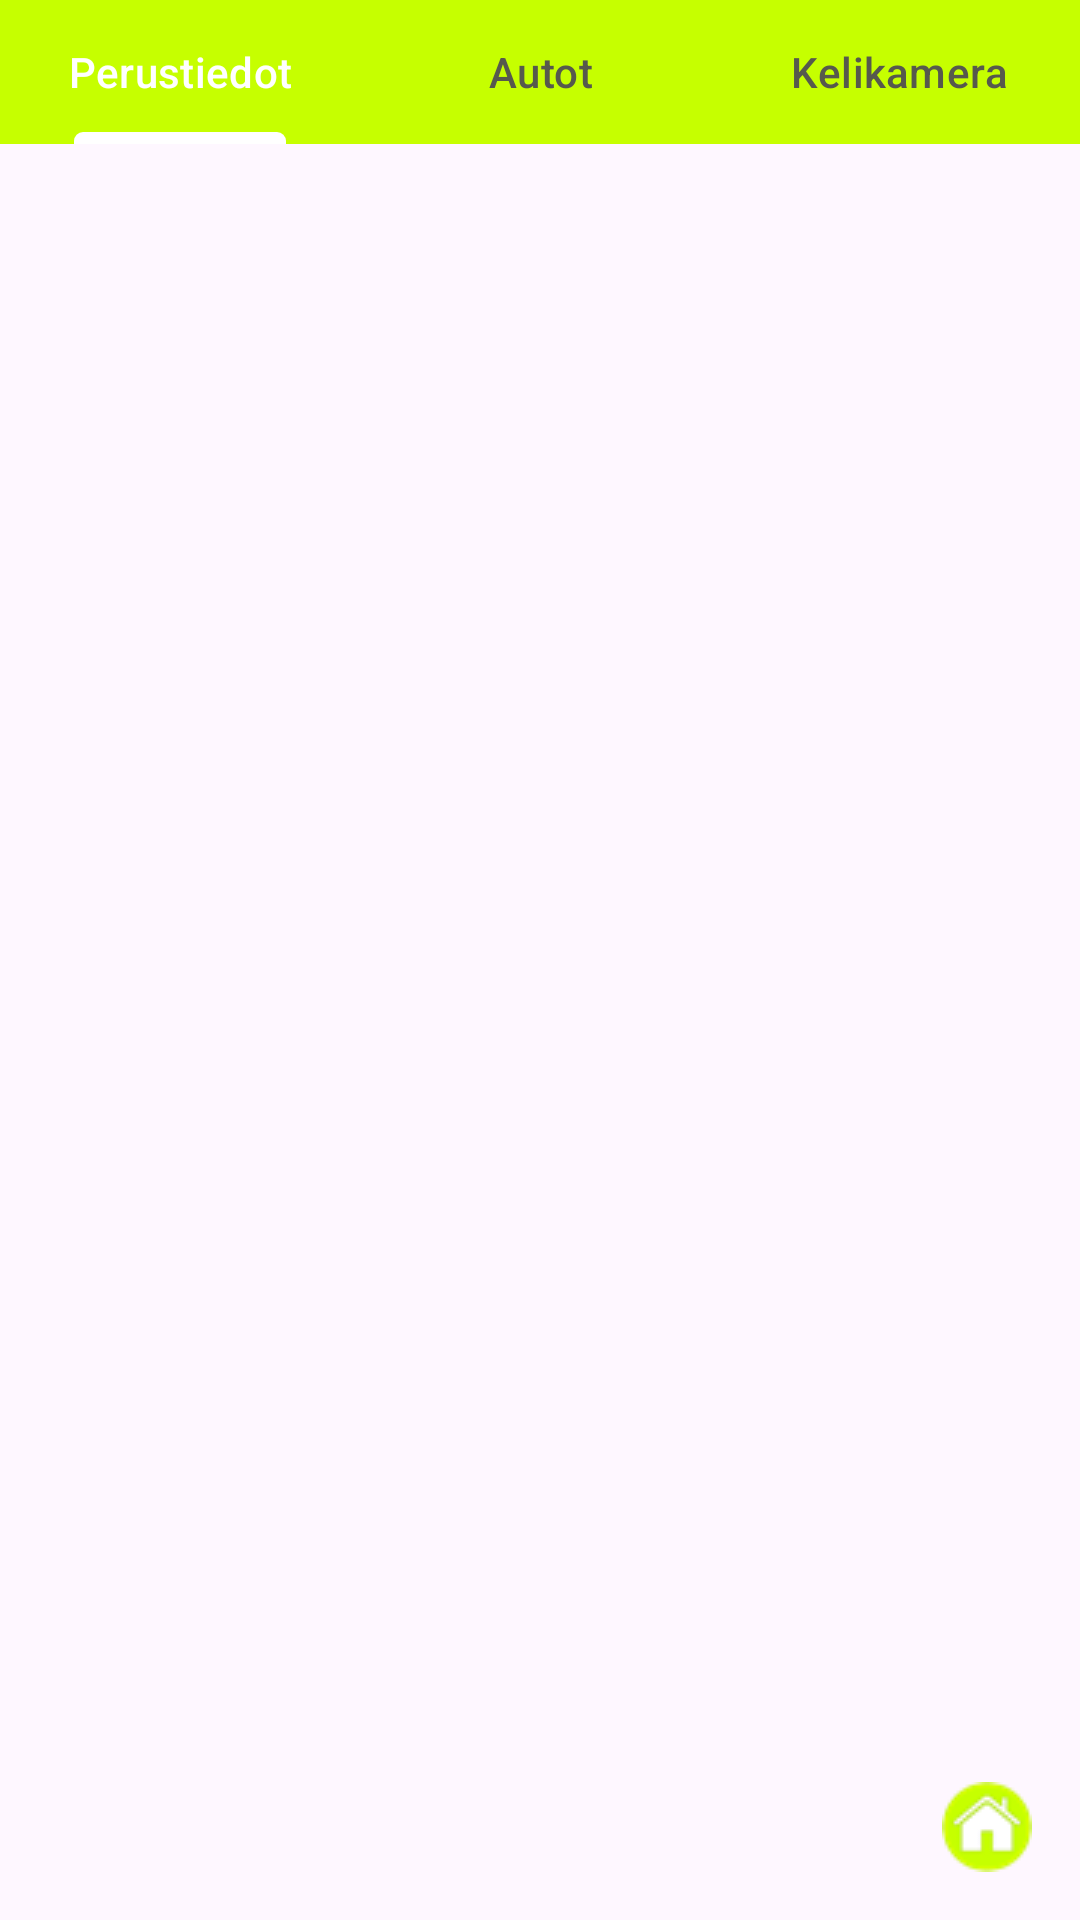

Icons on this 1080*1920 Android screen, each with the point to tap as point (x, y):
home: point (987, 1827)
